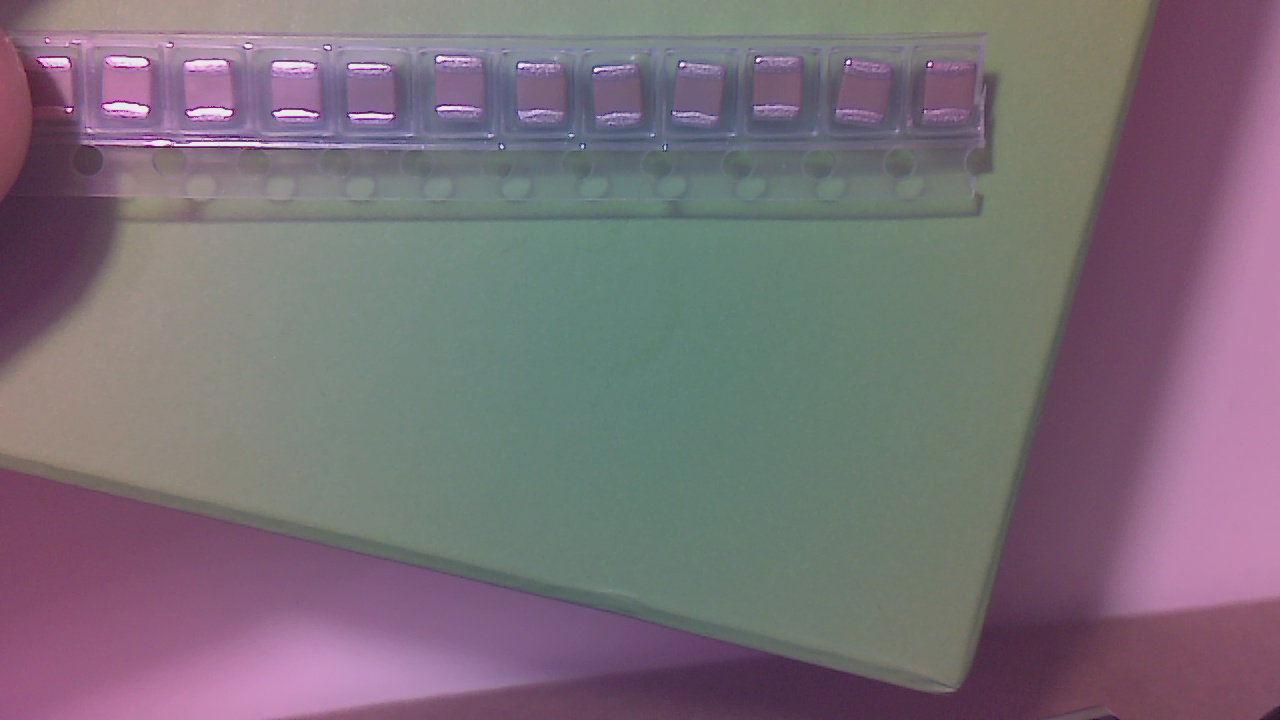Condensator: (840, 62, 900, 130), (925, 63, 984, 131), (758, 58, 810, 130), (274, 61, 327, 130), (438, 55, 489, 126), (519, 63, 572, 130), (678, 64, 733, 128), (105, 59, 156, 125), (189, 62, 240, 127), (351, 62, 398, 131), (598, 62, 644, 132)
